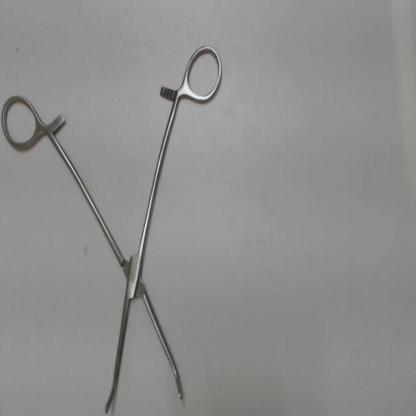Lahey Forceps: (1, 37, 230, 415)
